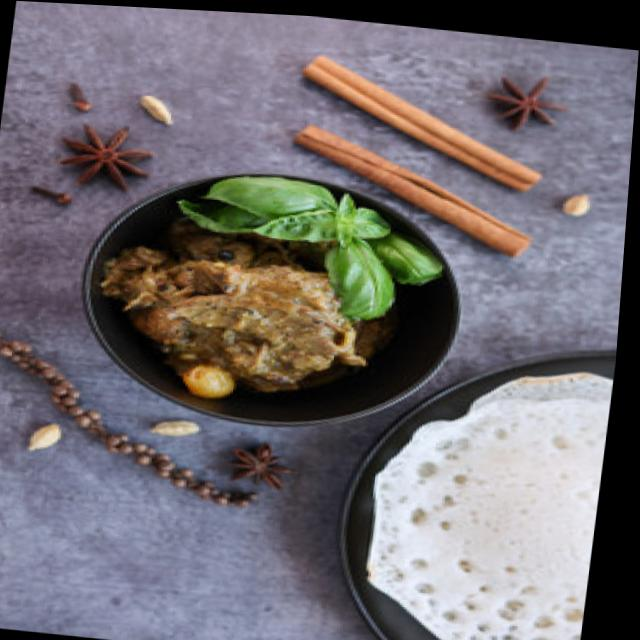AAPAM: (344, 354, 616, 640), (368, 373, 612, 640)
CURRY: (103, 234, 389, 390)
